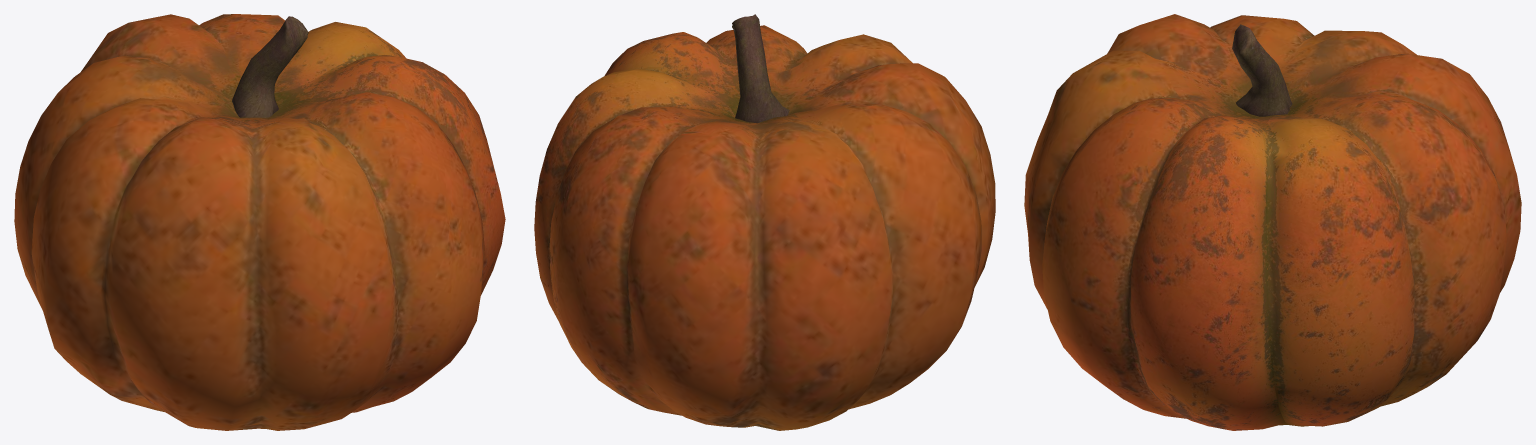
The model's file is pumpkin.glb.
The picture shows the model from 3 angles, left to right: view 1: azimuth 30°, elevation 25°; view 2: azimuth 150°, elevation 25°; view 3: azimuth 270°, elevation 25°; orthographic projection. The views are drawn at different scales.
Visible parts, largest first — view 1: Group36326_Retopo_Pumpkin_final_default_0, Group19074_Retopo_Pumpkin_final_default_0; view 2: Group36326_Retopo_Pumpkin_final_default_0, Group19074_Retopo_Pumpkin_final_default_0; view 3: Group36326_Retopo_Pumpkin_final_default_0, Group19074_Retopo_Pumpkin_final_default_0.
Boxes of the visible parts, x1,y1,x2,y2 form: Group36326_Retopo_Pumpkin_final_default_0: (14,14,505,430); Group19074_Retopo_Pumpkin_final_default_0: (232,16,308,117); Group36326_Retopo_Pumpkin_final_default_0: (534,25,995,430); Group19074_Retopo_Pumpkin_final_default_0: (732,14,789,123); Group36326_Retopo_Pumpkin_final_default_0: (1024,14,1521,430); Group19074_Retopo_Pumpkin_final_default_0: (1232,24,1292,116).
Bounding box in the file's own units: 41.07 × 34.86 × 41.74.
Materials: 1 (1 with a texture image).
